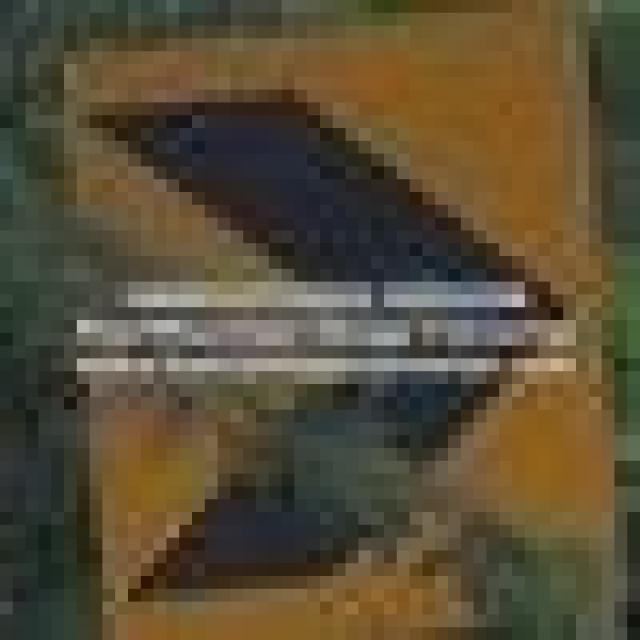DIRECTION: (38, 26, 614, 627)
